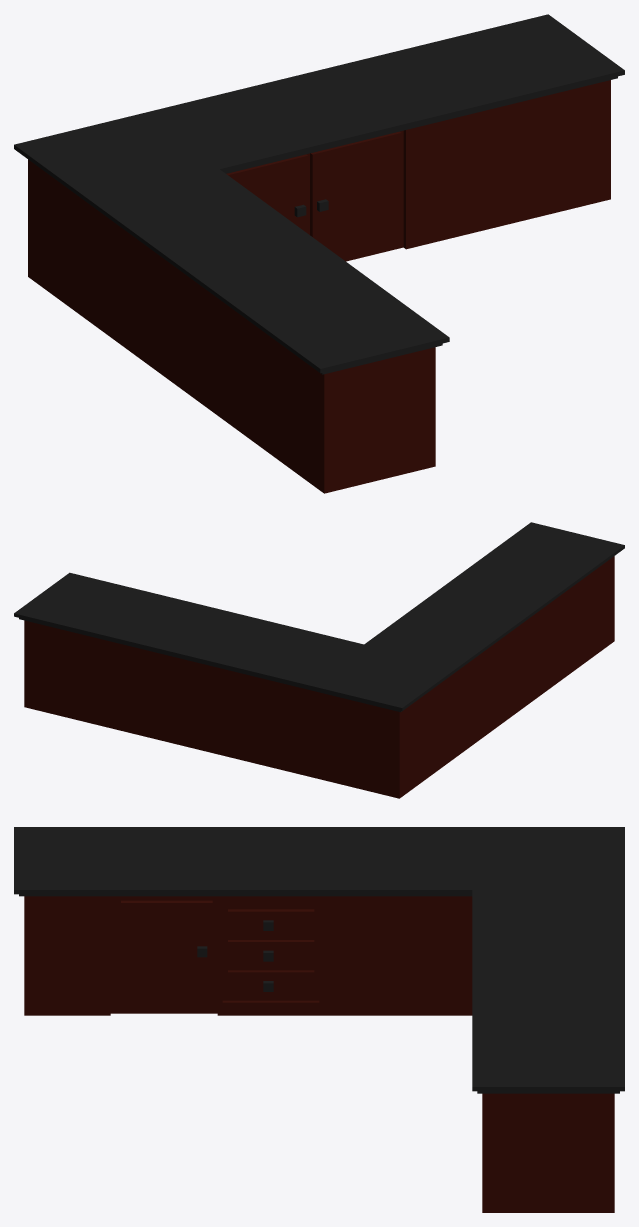
Rendered from Kitchen Counter.fbx.
3 views of the same model, one above another, from view 1: azimuth 30°, elevation 25°; view 2: azimuth 150°, elevation 25°; view 3: azimuth 270°, elevation 25° (orthographic). The views are drawn at different scales.
Visible parts, largest first — view 1: Kitchen Counter; view 2: Kitchen Counter; view 3: Kitchen Counter.
Boxes of the visible parts, bbox=[...] form: Kitchen Counter: bbox=[14, 14, 624, 493]; Kitchen Counter: bbox=[14, 522, 624, 798]; Kitchen Counter: bbox=[14, 827, 624, 1212].
Size of the model in its own units: 2.47 by 0.5771 by 2.45.
